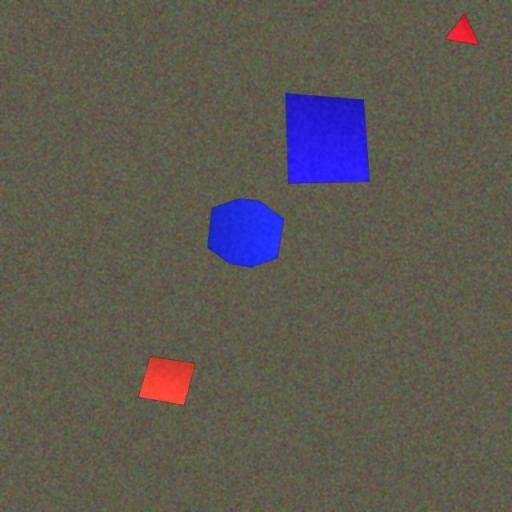BLUE_SQUARE: (285, 93, 370, 184)
RED_SQUARE: (138, 356, 196, 406)
